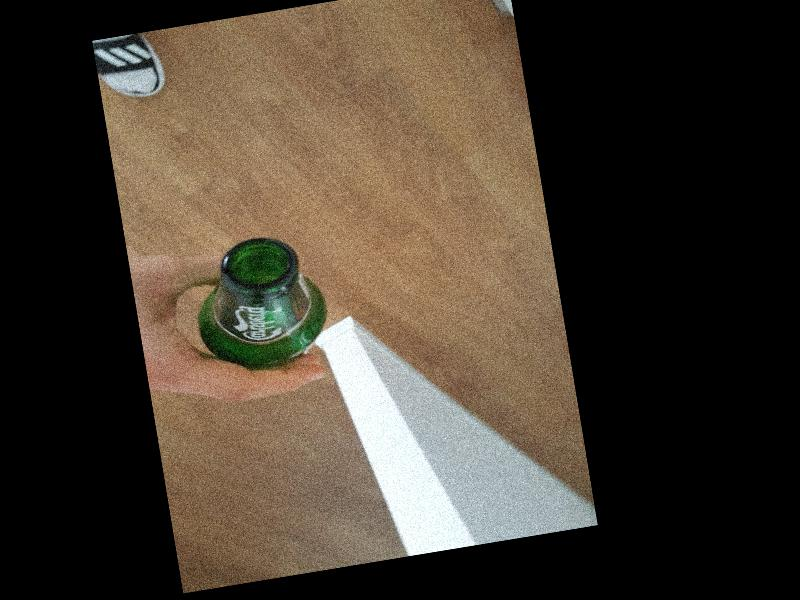Beer: (183, 228, 335, 377)
